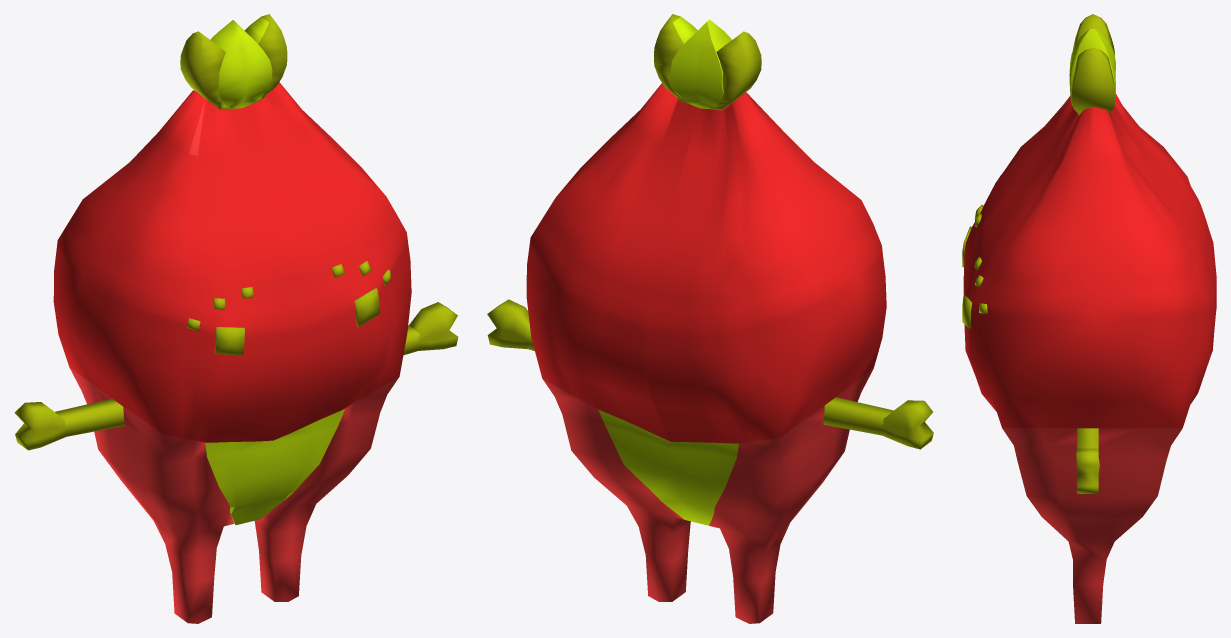
The model's file is Personagem B com Turbosmooth.fbx.
3 views of the same model, side by side, from view 1: azimuth 30°, elevation 25°; view 2: azimuth 150°, elevation 25°; view 3: azimuth 270°, elevation 25° (orthographic). The views are drawn at different scales.
Visible parts, largest first — view 1: Box002; view 2: Box002; view 3: Box002.
Part boxes in pixels (x1=…): Box002: x1=14, y1=14, x2=458, y2=623; Box002: x1=487, y1=14, x2=933, y2=623; Box002: x1=962, y1=14, x2=1216, y2=623.
Bounding box in the file's own units: 3.39 × 4.39 × 1.77.
